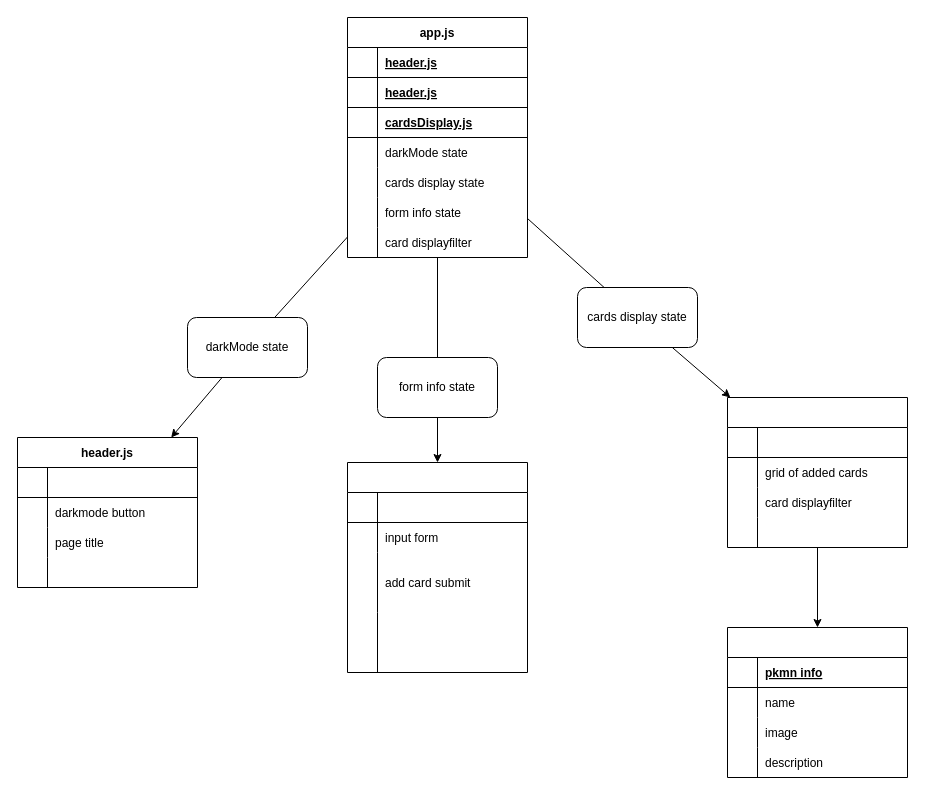
The diagram is 925 pixels wide and 795 high, and some of its shapes have lost their labels. The shapes that lost their labels are listed below. From the top down, each one's box as (x1, y1, x2, y2) in pixels, then its label:
(726, 396, 908, 548): cardDisplay.js
(346, 462, 528, 672): form.js
(726, 626, 908, 778): card.js
